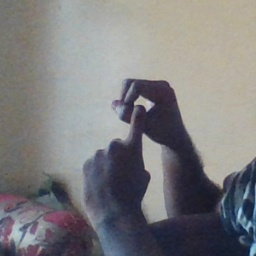Q: (78, 74, 184, 199)
